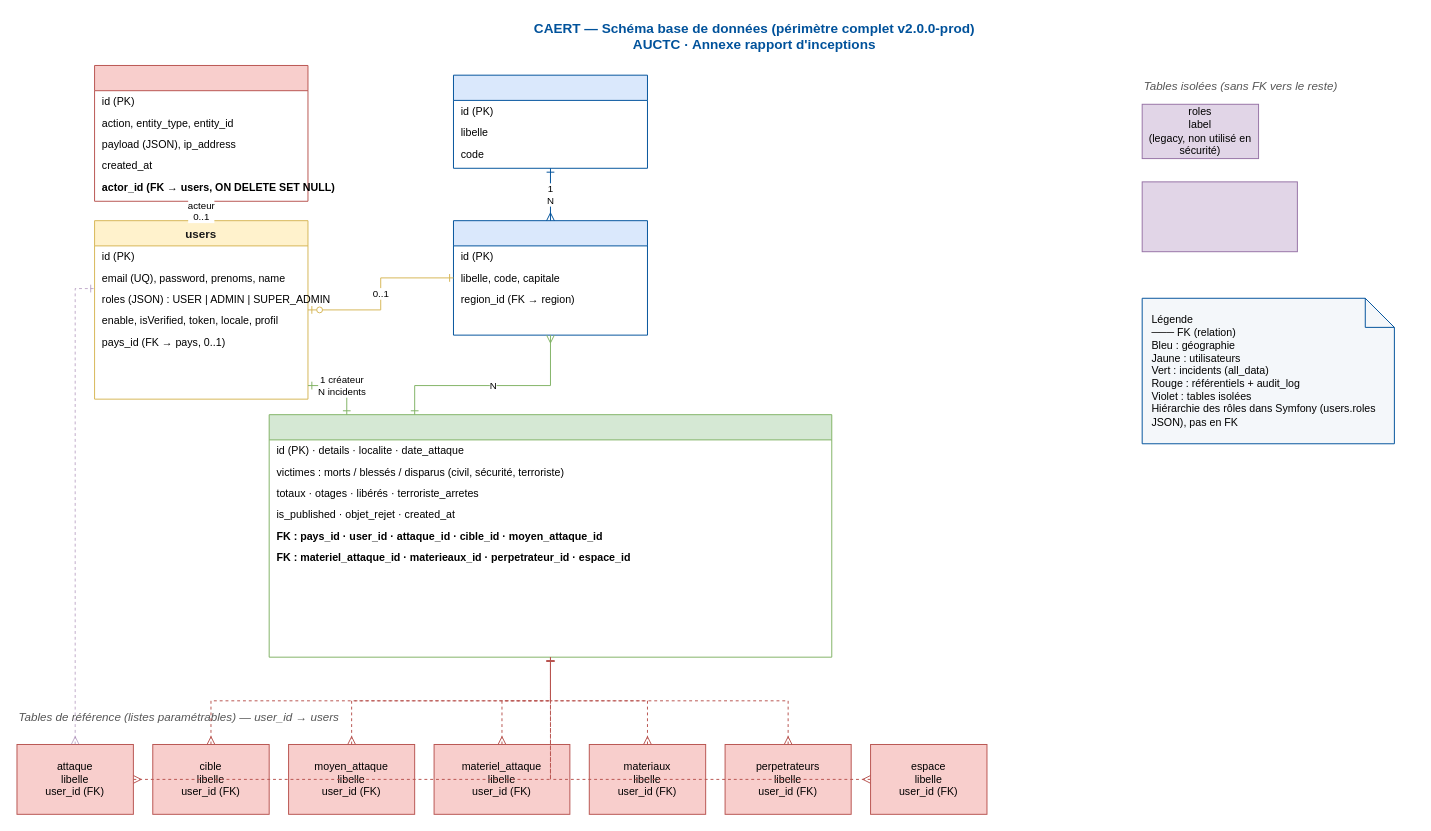
This 1431x831 diagram has some shape labels left out. Each missing label, with the box of its shape:
all_data (incidents): (268, 414, 832, 657)
app_param name, logo, email (installation): (1141, 181, 1297, 252)
audit_log: (94, 65, 308, 201)
pays: (453, 220, 647, 335)
region: (453, 74, 647, 168)
